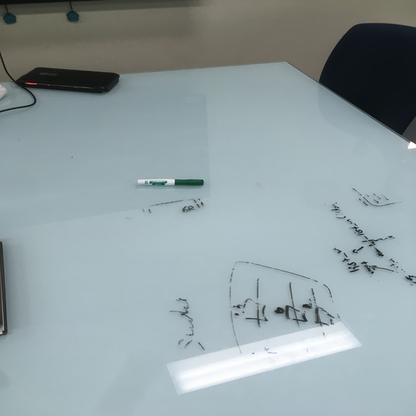expo_marker: (135, 173, 208, 198)
